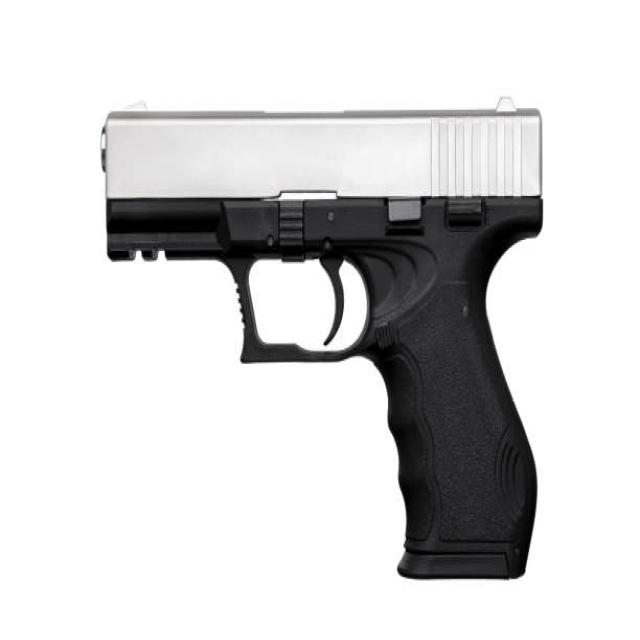pistol: (96, 90, 550, 587)
